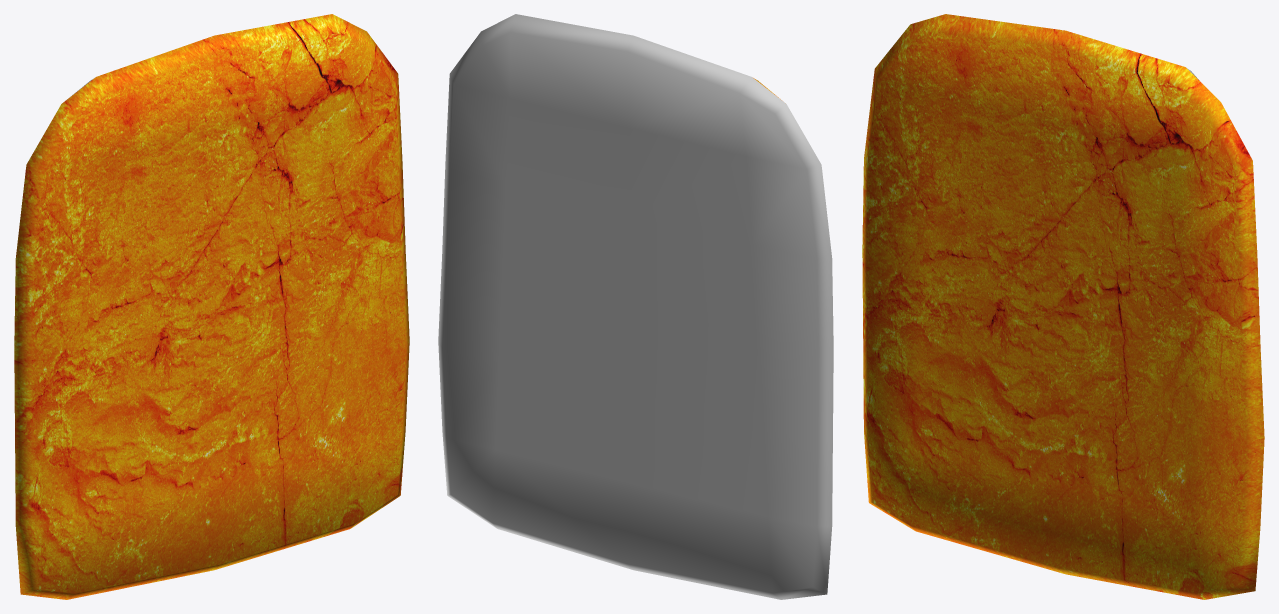
File: Egyptian Hieroglyph.FBX
3 views of the same model, side by side, from view 1: azimuth 30°, elevation 25°; view 2: azimuth 150°, elevation 25°; view 3: azimuth 330°, elevation 25° (orthographic).
Parts seen in each view (by area): view 1: Hieroglyph; view 2: Hieroglyph; view 3: Hieroglyph.
Part boxes in pixels (box(x1,y1,x2,y2)): Hieroglyph: box(14, 14, 409, 599); Hieroglyph: box(438, 14, 833, 599); Hieroglyph: box(862, 14, 1264, 599).
Size of the model in its own units: 1403 by 1813 by 110.
